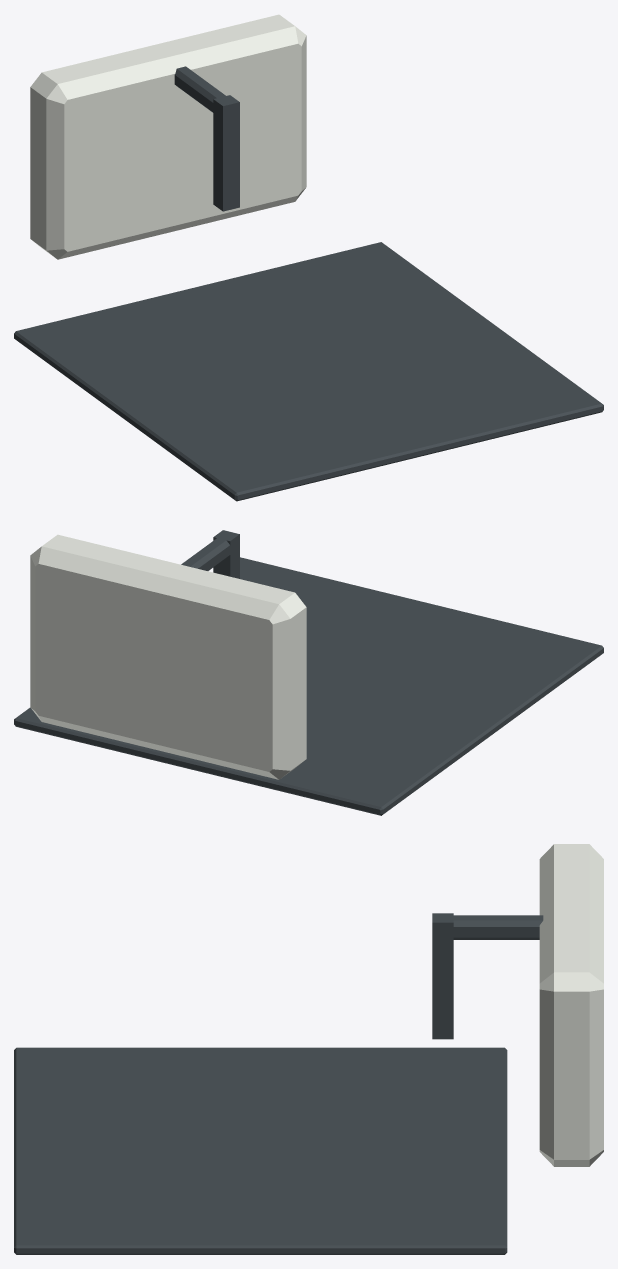
Rendered from shared_bath_basin.obj.
3 views of the same model, one above another, from view 1: azimuth 30°, elevation 25°; view 2: azimuth 150°, elevation 25°; view 3: azimuth 270°, elevation 25° (orthographic). The views are drawn at different scales.
Parts seen in each view (by area): view 1: shared_bath_basin_metal, shared_bath_basin_ceramic; view 2: shared_bath_basin_ceramic, shared_bath_basin_metal; view 3: shared_bath_basin_metal, shared_bath_basin_ceramic.
Boxes of the visible parts, bbox=[...] form: shared_bath_basin_metal: bbox=[14, 66, 603, 501]; shared_bath_basin_ceramic: bbox=[30, 14, 306, 259]; shared_bath_basin_ceramic: bbox=[30, 534, 306, 779]; shared_bath_basin_metal: bbox=[14, 530, 603, 815]; shared_bath_basin_metal: bbox=[14, 913, 543, 1254]; shared_bath_basin_ceramic: bbox=[539, 844, 603, 1166].
Bounding box in the file's own units: 44 × 25.95 × 55.
Materials: 3 (3 with a texture image).
